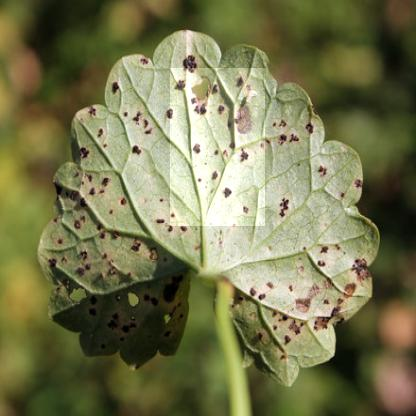black-spot: (170, 69, 265, 226), (71, 186, 173, 314), (258, 243, 362, 306)
